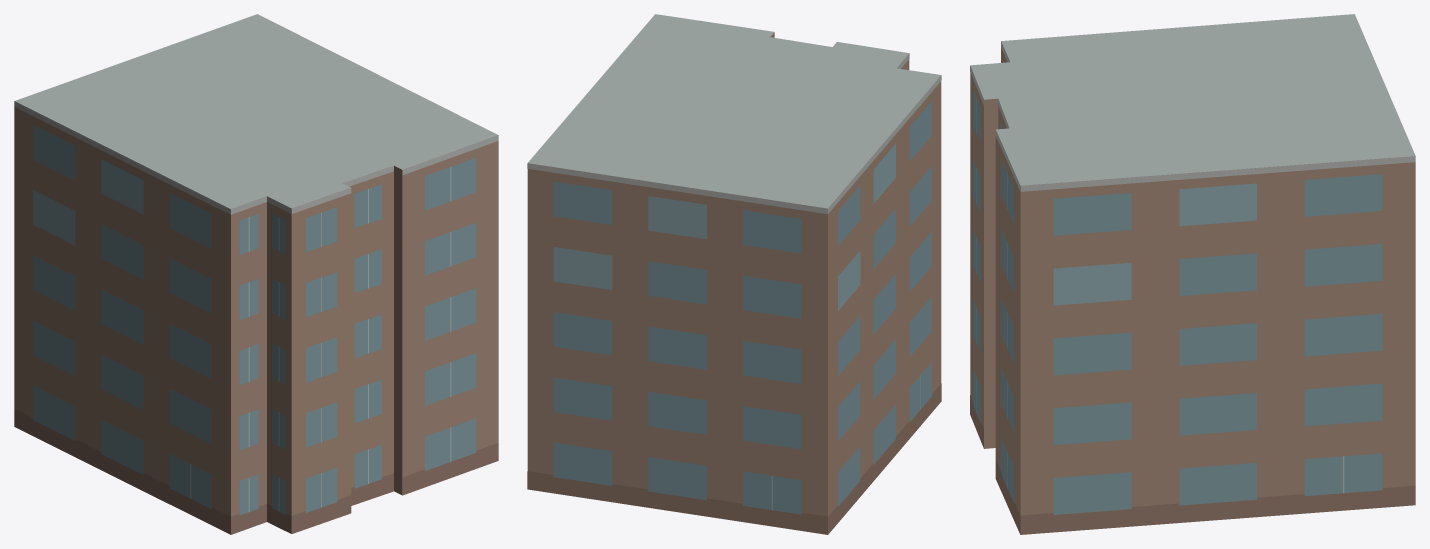
Rendered from survey-upis-32760453.glb.
The picture shows the model from 3 angles, left to right: view 1: azimuth 30°, elevation 25°; view 2: azimuth 150°, elevation 25°; view 3: azimuth 270°, elevation 25°; orthographic projection. The views are drawn at different scales.
Parts seen in each view (by area): view 1: survey-upis-32760453.tmp; view 2: survey-upis-32760453.tmp; view 3: survey-upis-32760453.tmp.
Boxes of the visible parts, bbox=[...] form: survey-upis-32760453.tmp: bbox=[14, 14, 498, 534]; survey-upis-32760453.tmp: bbox=[527, 14, 941, 534]; survey-upis-32760453.tmp: bbox=[970, 14, 1415, 534].
Bounding box in the file's own units: 14.89 × 14.1 × 16.32.
